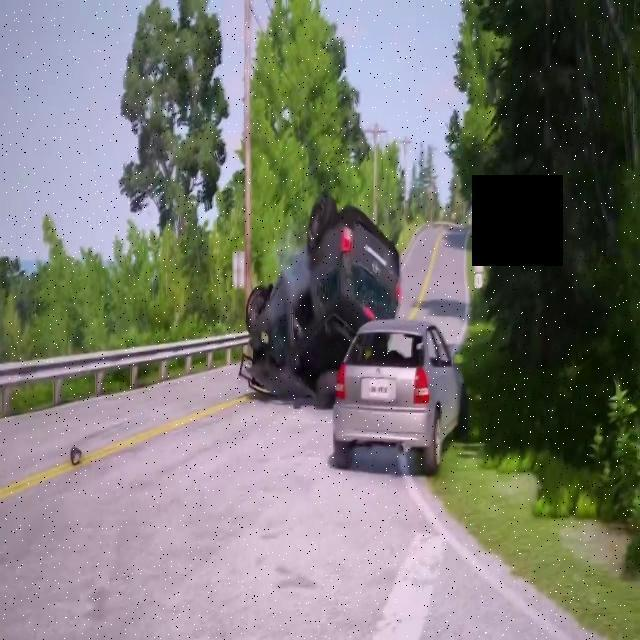accident: (238, 191, 406, 412)
